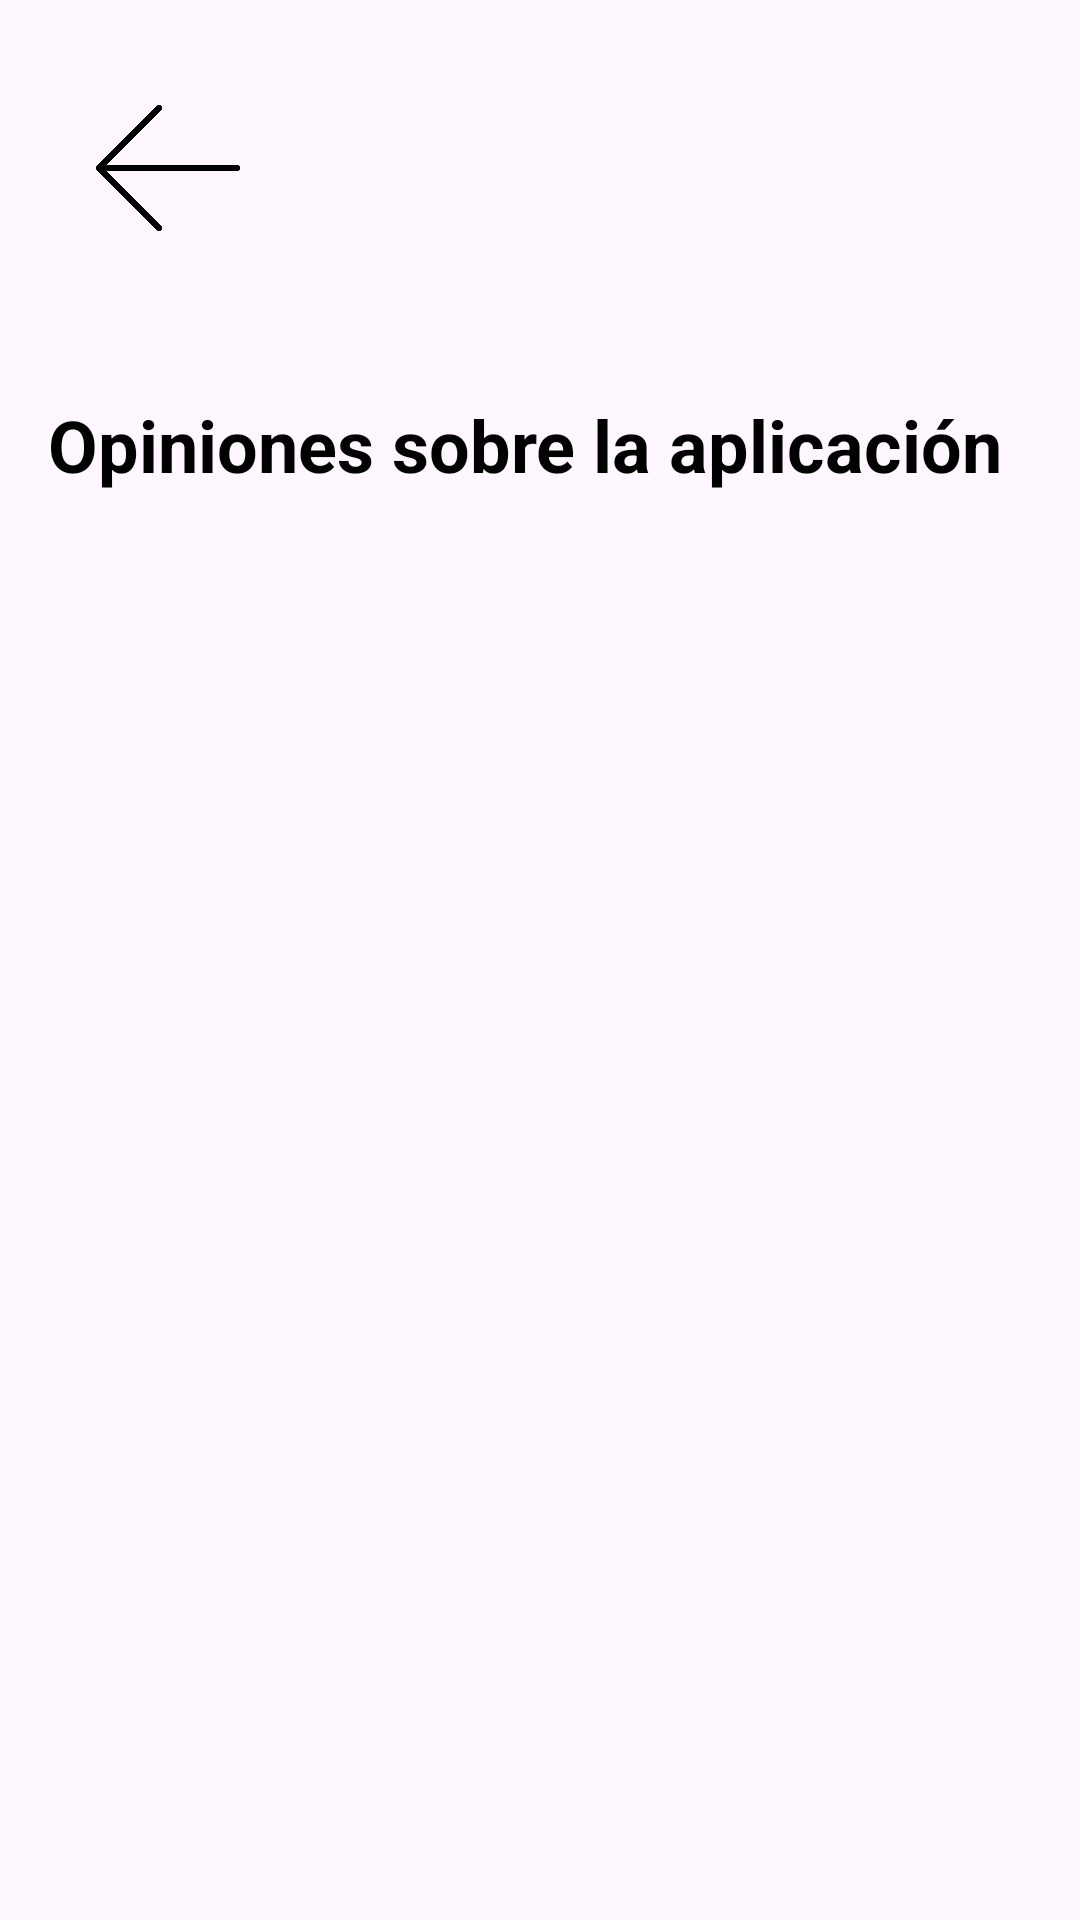

Named icons in this screenshot (1080 × 1920) and their bounding boxes, (x1, y1, x2, y2):
Botón de volver: (96, 105, 240, 231)
